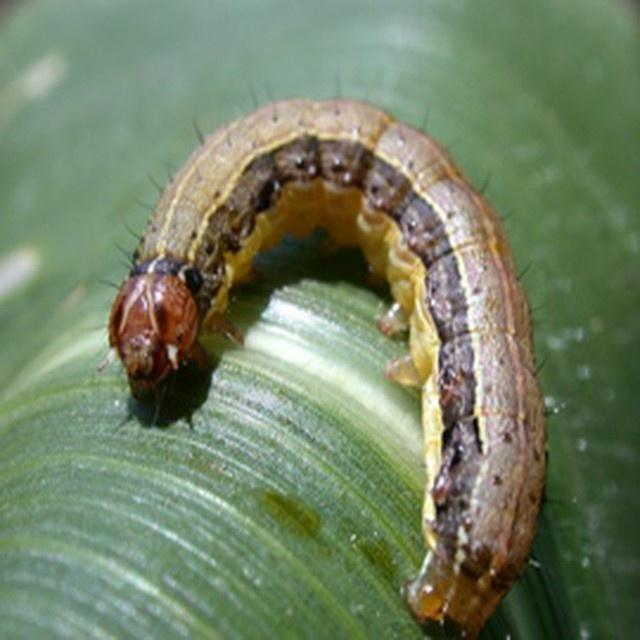gusano_cogollero: (112, 76, 557, 640)
